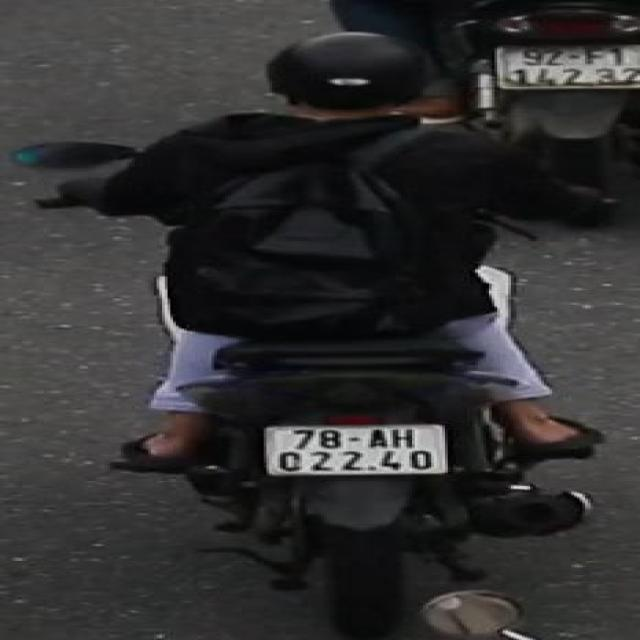LP: (258, 417, 456, 479), (488, 37, 638, 96)
helmet: (258, 27, 456, 127)
